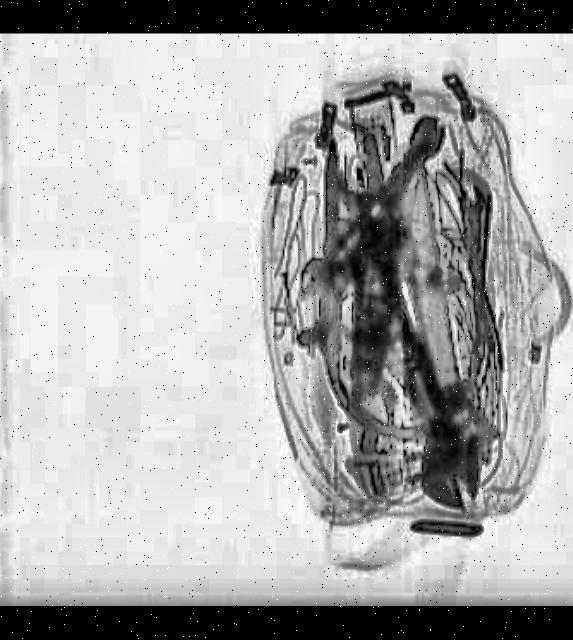Wrench: (368, 276, 497, 520)
